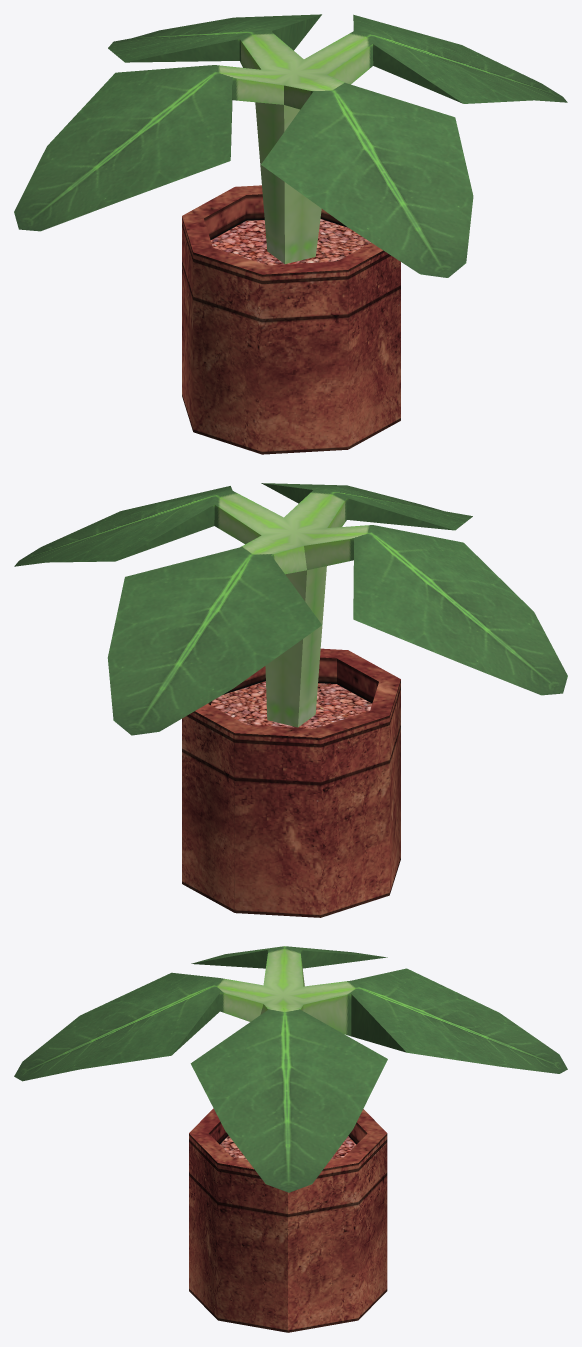
File: Decoration.fbx
3 renders of one model, top to bottom at view 1: azimuth 30°, elevation 25°; view 2: azimuth 150°, elevation 25°; view 3: azimuth 270°, elevation 25°, orthographic. The views are drawn at different scales.
Parts seen in each view (by area): view 1: Plant; view 2: Plant; view 3: Plant.
Part boxes in pixels (x1,y1,x2,y2): Plant: (14, 14, 567, 454); Plant: (14, 483, 567, 917); Plant: (14, 946, 567, 1332).
Bounding box in the file's own units: 177 × 111 × 179.
